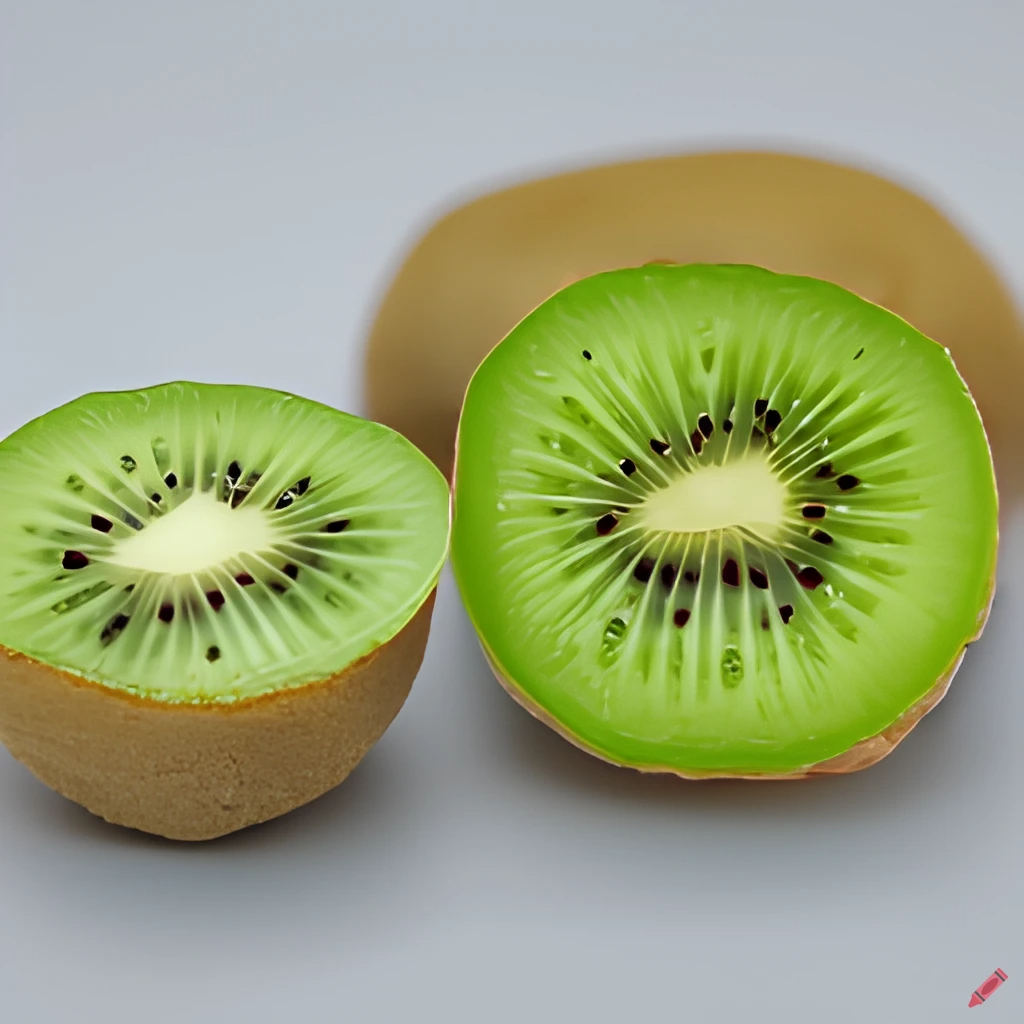Kiwi: (0, 299, 462, 881)
